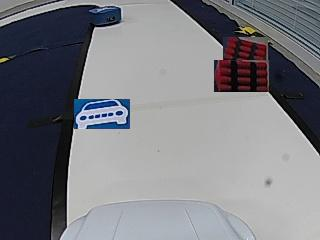prop: (89, 6, 121, 26)
